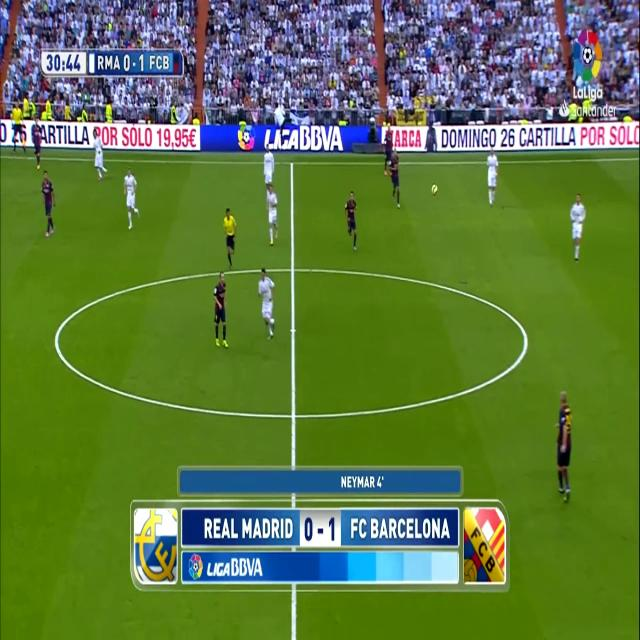bigarea_bottom_inner: (499, 572, 511, 600)
halfcircle_bottom: (286, 397, 301, 433)
halfcircle_top: (286, 255, 298, 283)
midline_top_intersection: (287, 154, 297, 172)
